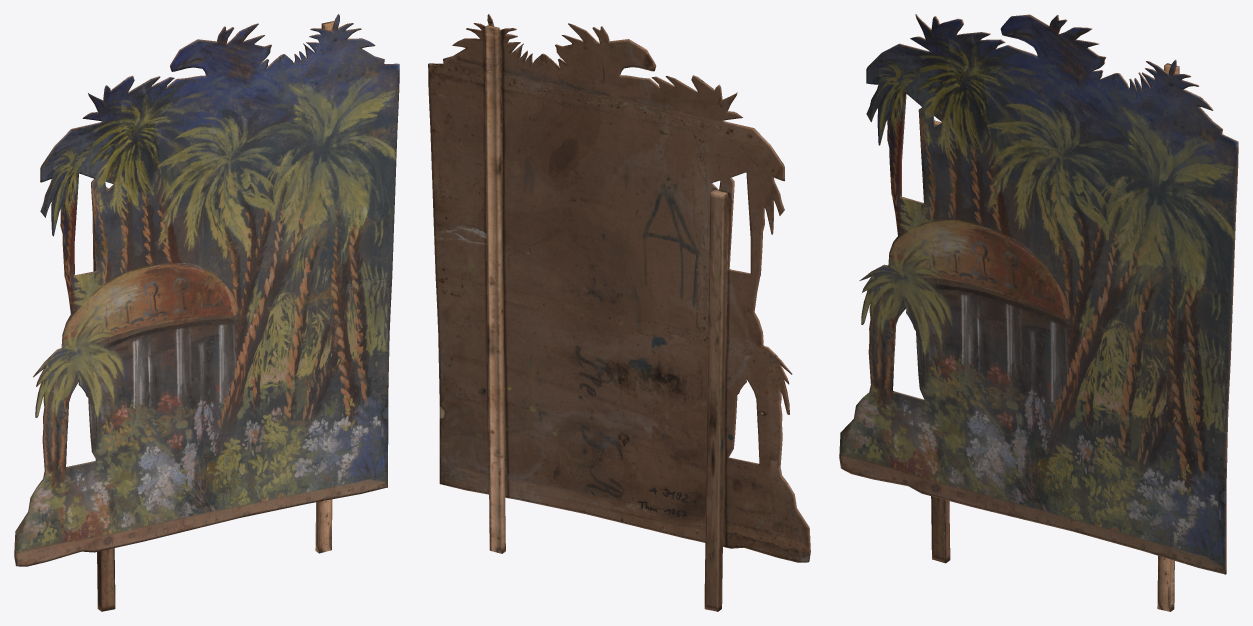
3 renders of one model, left to right at view 1: azimuth 30°, elevation 25°; view 2: azimuth 150°, elevation 25°; view 3: azimuth 330°, elevation 25°, orthographic. The views are drawn at different scales.
Parts seen in each view (by area): view 1: stick1; view 2: stick1; view 3: stick1.
Part boxes in pixels (<box>): stick1: <box>14,14,399,611</box>; stick1: <box>428,14,810,611</box>; stick1: <box>839,14,1238,611</box>.
Size of the model in its own units: 68.96 by 95.3 by 1.69.
